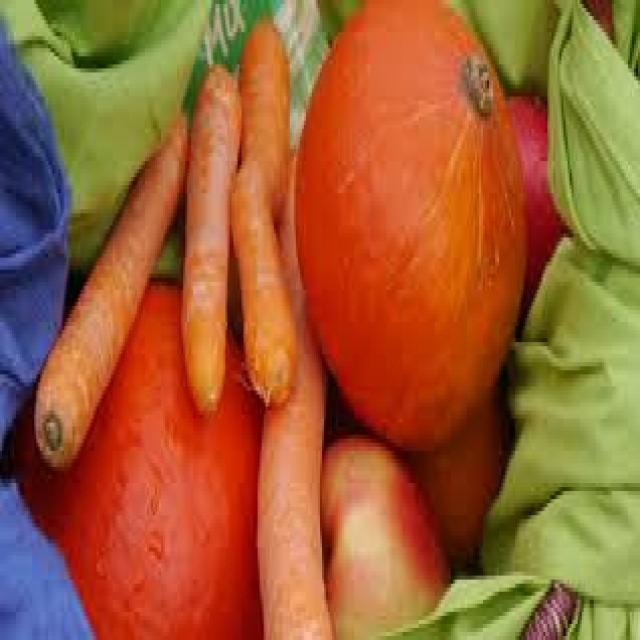organic waste: (292, 0, 521, 447), (10, 278, 260, 636), (30, 105, 183, 463), (254, 149, 332, 636), (223, 12, 298, 403), (316, 427, 449, 636), (179, 61, 244, 410), (501, 80, 572, 318), (407, 391, 497, 564)
